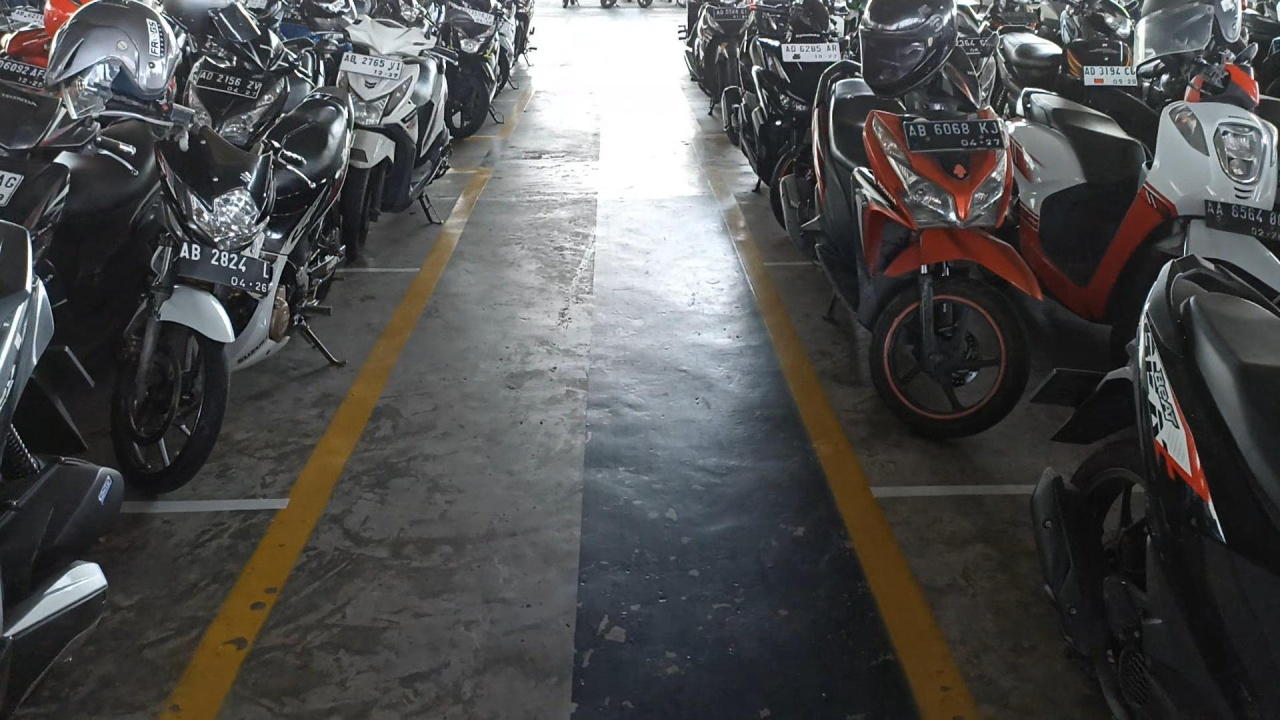plate: (179, 239, 269, 296), (903, 119, 1006, 153), (196, 69, 263, 99), (339, 52, 405, 80), (782, 43, 841, 62), (1084, 66, 1138, 86)
